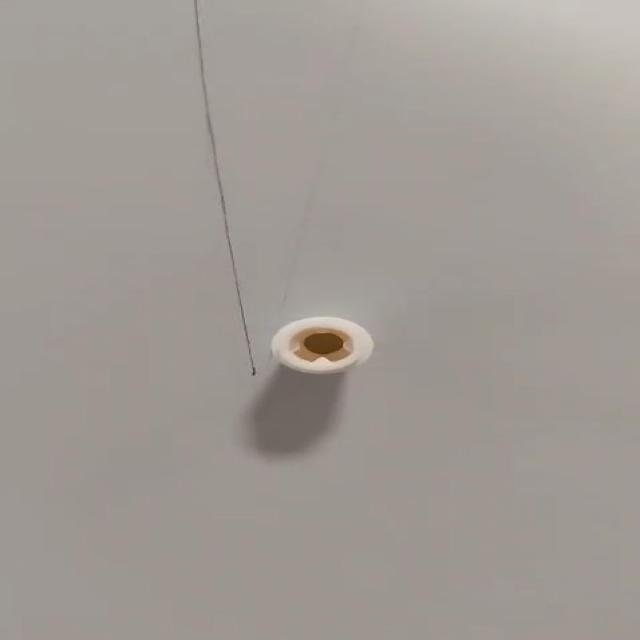Z1x1x1: (268, 316, 372, 376)
